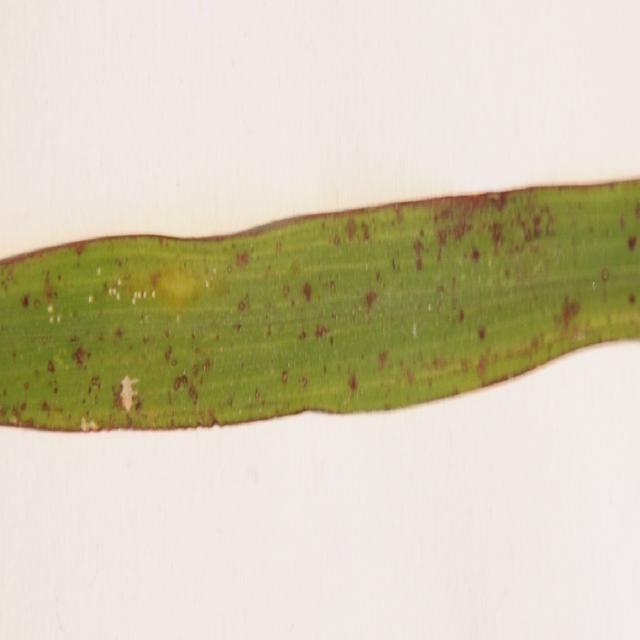Leafsmut: (197, 264, 227, 302), (448, 220, 472, 243), (563, 298, 581, 326), (192, 358, 213, 382), (540, 208, 556, 235), (72, 345, 90, 367), (345, 218, 361, 241), (363, 290, 378, 312), (531, 214, 544, 239), (476, 353, 489, 378), (492, 192, 509, 211), (79, 416, 99, 432), (119, 374, 139, 390), (490, 222, 504, 243), (120, 390, 133, 412), (436, 228, 450, 248), (412, 239, 425, 260), (237, 292, 250, 312), (235, 250, 250, 267), (173, 375, 188, 392), (301, 281, 313, 302), (377, 349, 389, 370), (204, 408, 218, 426), (51, 354, 66, 369), (315, 324, 329, 338), (72, 243, 86, 257), (11, 407, 23, 423), (348, 375, 358, 393), (436, 284, 446, 302), (406, 367, 416, 385), (132, 396, 143, 412), (188, 384, 198, 401), (164, 345, 174, 362), (575, 329, 588, 342), (40, 400, 51, 415), (627, 235, 637, 250), (600, 268, 610, 282), (470, 248, 480, 262), (46, 359, 56, 373), (477, 326, 487, 340), (90, 375, 100, 389), (488, 192, 502, 202), (391, 257, 400, 272), (485, 254, 494, 269), (332, 234, 342, 247), (21, 294, 30, 308), (282, 284, 291, 298), (415, 257, 423, 272), (114, 327, 124, 339), (253, 389, 262, 402), (281, 370, 289, 384), (458, 309, 466, 323), (329, 279, 337, 293), (265, 324, 273, 338), (297, 329, 307, 340), (164, 328, 173, 340), (620, 214, 626, 231), (232, 322, 242, 332), (142, 335, 152, 345), (411, 322, 418, 336), (627, 293, 635, 305), (300, 376, 308, 388), (374, 271, 382, 283), (235, 404, 243, 415), (225, 265, 234, 274), (114, 290, 122, 300), (47, 304, 54, 314), (23, 380, 30, 390), (139, 291, 147, 299), (636, 203, 640, 218), (329, 336, 335, 346), (204, 280, 211, 288), (133, 291, 140, 299), (211, 267, 218, 275), (331, 312, 338, 320), (132, 295, 138, 304), (351, 308, 357, 317), (87, 295, 93, 303), (48, 316, 54, 324), (96, 267, 102, 275), (176, 314, 181, 323), (56, 274, 62, 281), (56, 315, 61, 323), (592, 281, 597, 289), (427, 304, 432, 312), (117, 278, 122, 286), (151, 290, 156, 297)
